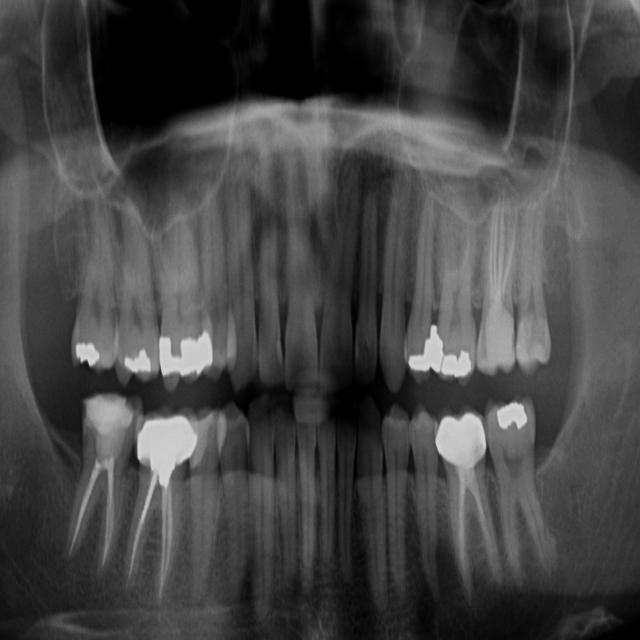dolgu: (86, 383, 136, 450), (400, 313, 441, 382), (64, 332, 110, 374), (489, 398, 536, 439), (117, 336, 155, 381), (438, 344, 476, 385)
kanal-tedavisi: (118, 468, 176, 598), (442, 474, 496, 582), (69, 450, 118, 569), (483, 216, 520, 323)
kaplama: (134, 410, 199, 472), (152, 325, 219, 378), (431, 413, 489, 471)
